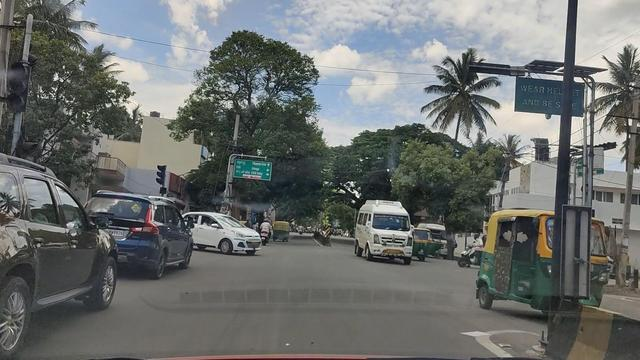LMV: (5, 151, 118, 354), (99, 186, 196, 277), (186, 200, 263, 260)
